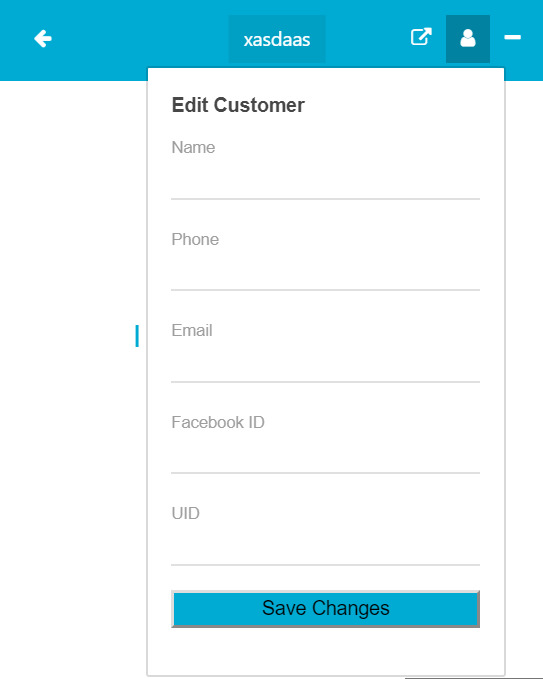_form_: (109, 6, 525, 422), (111, 259, 527, 675)
button: (169, 589, 482, 633)
field_line: (168, 138, 478, 203), (167, 231, 483, 294), (168, 413, 479, 477), (167, 322, 482, 385), (169, 506, 479, 567)
